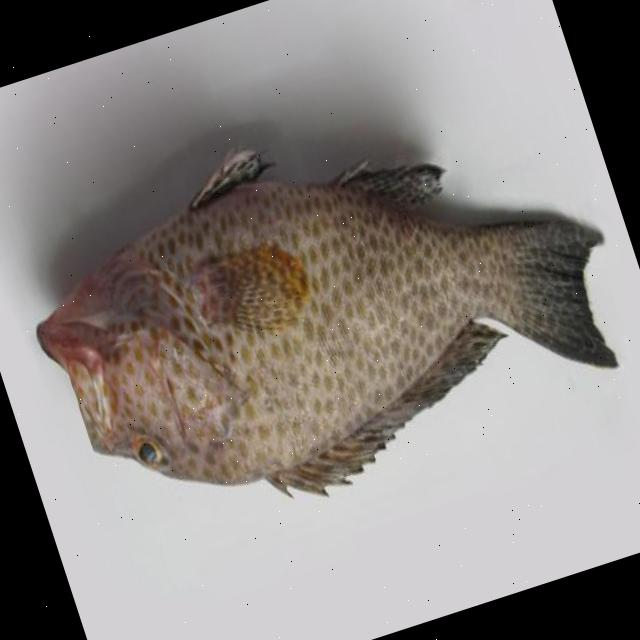ikan: (0, 45, 640, 573)
